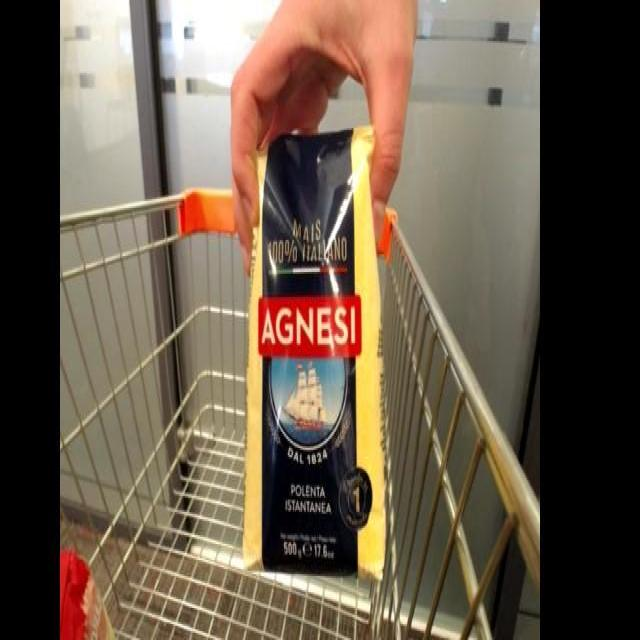Agnesi Polenta: (234, 108, 396, 580)
